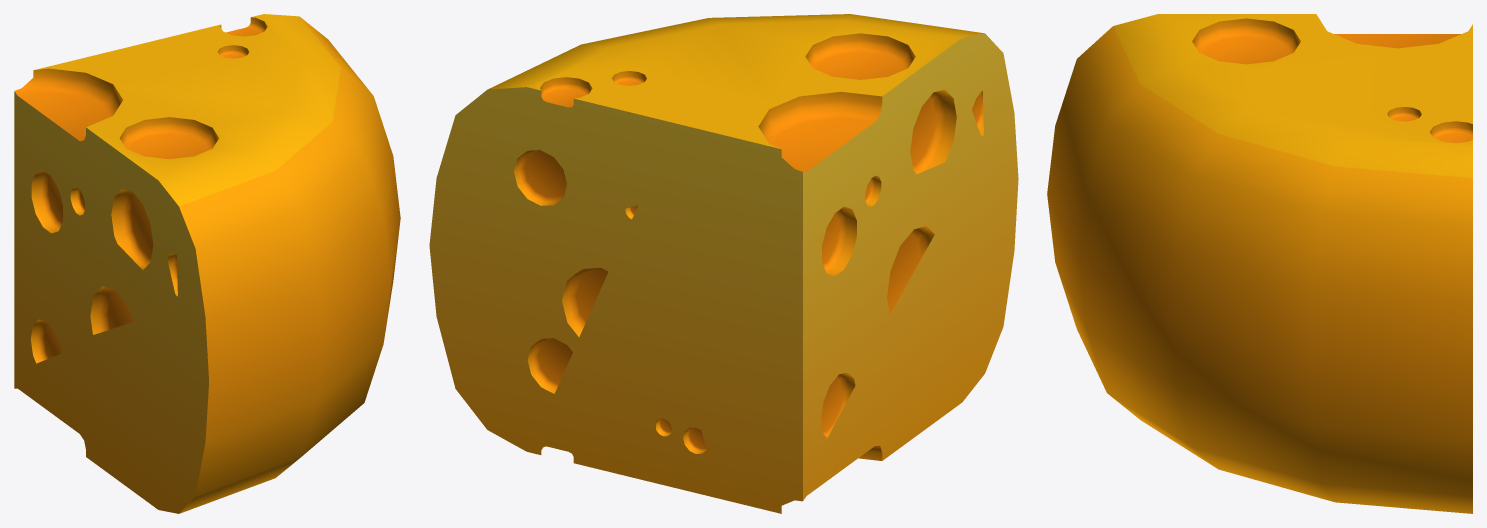
Rendered from Cheese_V1_01.fbx.
3 views of the same model, side by side, from view 1: azimuth 30°, elevation 25°; view 2: azimuth 150°, elevation 25°; view 3: azimuth 270°, elevation 25° (orthographic). The views are drawn at different scales.
Parts seen in each view (by area): view 1: Cheese_V1_01; view 2: Cheese_V1_01; view 3: Cheese_V1_01.
Part boxes in pixels (<box>): Cheese_V1_01: <box>14,14,400,513</box>; Cheese_V1_01: <box>429,14,1018,513</box>; Cheese_V1_01: <box>1047,14,1472,513</box>.
Size of the model in its own units: 30.62 by 28.57 by 30.62.
